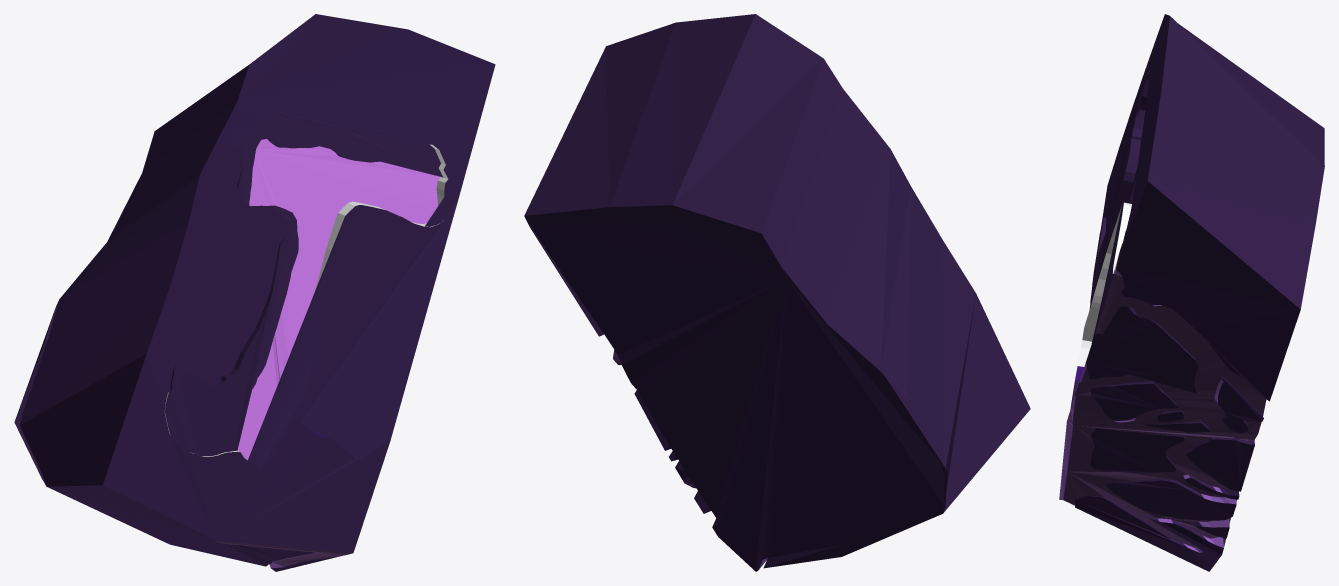
Rendered from IStone.fbx.
The picture shows the model from 3 angles, left to right: view 1: azimuth 30°, elevation 25°; view 2: azimuth 150°, elevation 25°; view 3: azimuth 270°, elevation 25°; orthographic projection. The views are drawn at different scales.
Visible parts, largest first — view 1: pCube7; view 2: pCube7; view 3: pCube7.
Part boxes in pixels (x1,y1,x2,y2): pCube7: [14, 14, 495, 571]; pCube7: [524, 14, 1030, 571]; pCube7: [1059, 14, 1324, 571].
Bounding box in the file's own units: 1.31 × 1.66 × 0.7059.
Materials: 4 (1 with a texture image).
